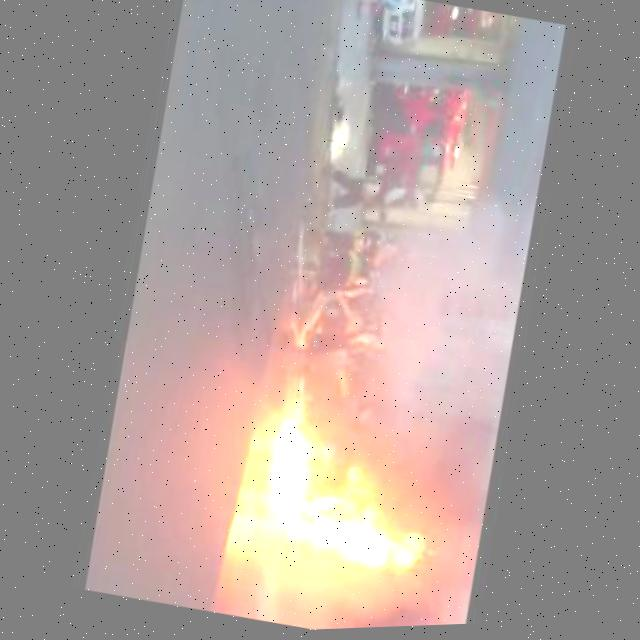Fire: (237, 398, 445, 596)
